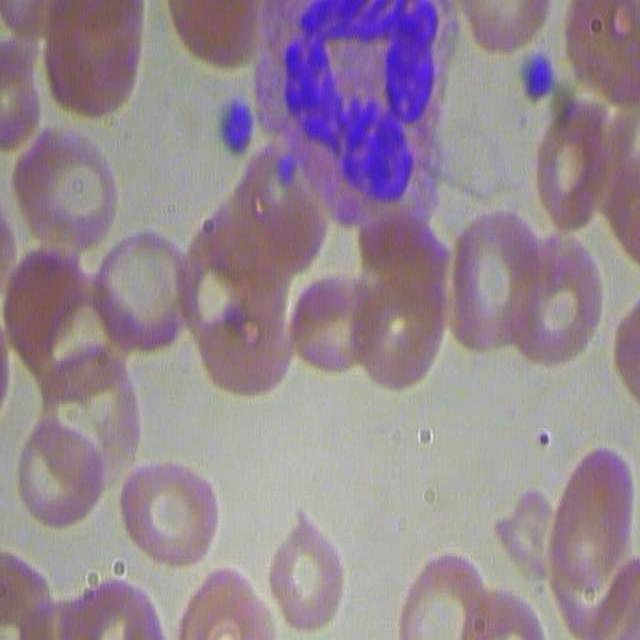RBC: (328, 191, 452, 390), (177, 199, 298, 401), (8, 242, 131, 409), (545, 442, 637, 640), (227, 112, 332, 265), (11, 124, 123, 261), (439, 206, 542, 353), (84, 224, 190, 365), (500, 229, 603, 370), (31, 1, 142, 118), (526, 96, 614, 235), (120, 456, 222, 570), (11, 419, 107, 537), (391, 548, 496, 638), (266, 520, 350, 630), (562, 0, 640, 101), (173, 566, 270, 640), (161, 0, 265, 68), (72, 567, 167, 640), (500, 509, 562, 606), (0, 539, 49, 637), (454, 0, 548, 51)
WBC: (283, 0, 452, 222)
platelets: (216, 86, 257, 162), (517, 46, 561, 115)
